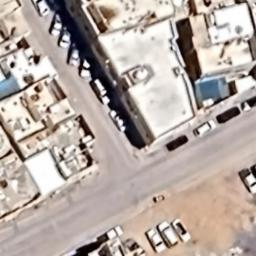SUV: (155, 219, 180, 249), (191, 117, 217, 140), (79, 50, 93, 80)
pickup: (237, 165, 256, 192)
sedan: (142, 227, 167, 255), (170, 218, 194, 242), (108, 108, 130, 131), (47, 9, 64, 38), (27, 0, 52, 18), (65, 39, 80, 69), (58, 25, 72, 50)
truck: (87, 76, 114, 104)
unknown: (215, 106, 242, 126), (165, 132, 190, 152)
